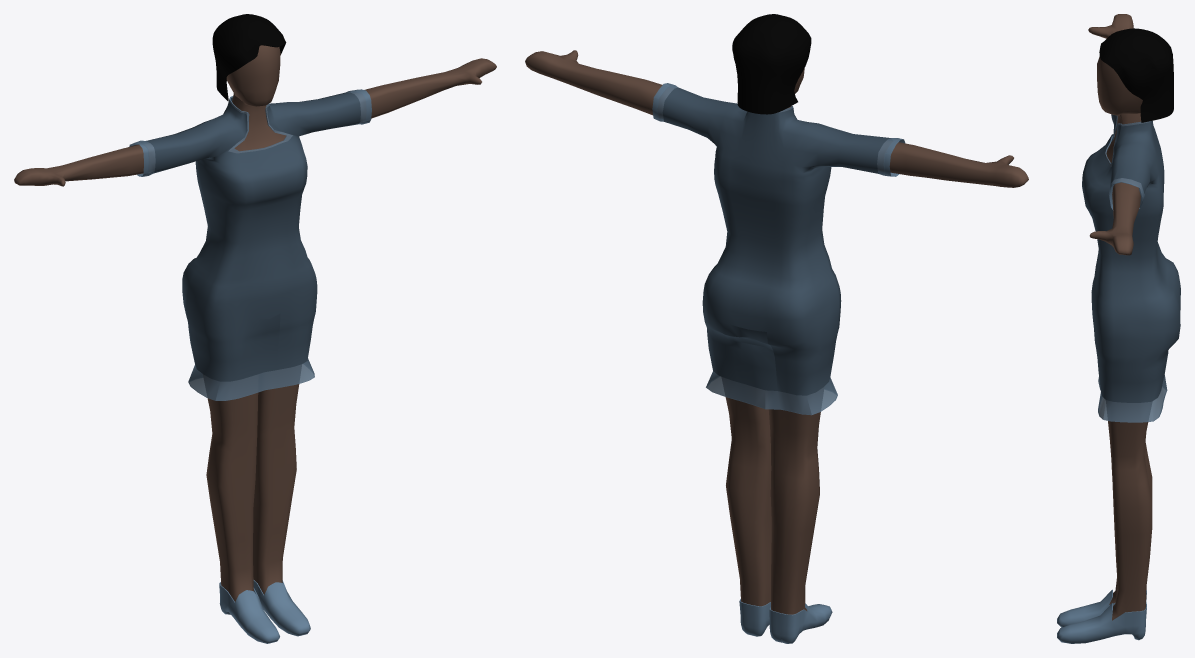
Rendered from NaisAsiakas2.fbx.
The picture shows the model from 3 angles, left to right: view 1: azimuth 30°, elevation 25°; view 2: azimuth 150°, elevation 25°; view 3: azimuth 270°, elevation 25°; orthographic projection. The views are drawn at different scales.
Visible parts, largest first — view 1: dress, body, shoes, hair; view 2: dress, body, hair, shoes; view 3: dress, body, hair, shoes.
Part boxes in pixels (left/top/right/bottom): dress: left=129, top=89, right=371, bottom=400; body: left=14, top=45, right=496, bottom=601; shoes: left=219, top=580, right=310, bottom=643; hair: left=212, top=14, right=286, bottom=101; dress: left=652, top=83, right=905, bottom=415; body: left=525, top=50, right=1028, bottom=614; hair: left=732, top=14, right=811, bottom=114; shoes: left=739, top=599, right=832, bottom=643; dress: left=1082, top=114, right=1180, bottom=422; body: left=1088, top=14, right=1152, bottom=620; hair: left=1099, top=28, right=1173, bottom=122; shoes: left=1057, top=589, right=1146, bottom=643.
Bounding box in the file's own units: 142 × 168 × 31.46.
